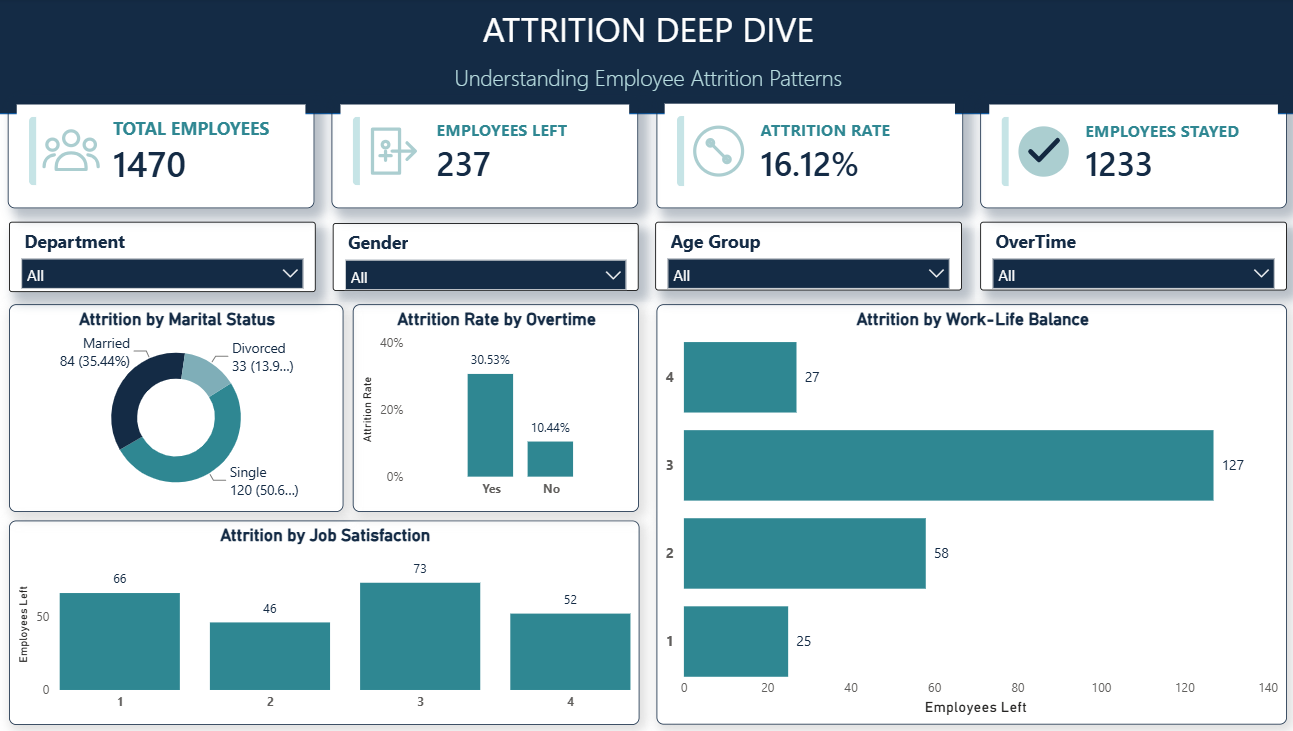

This screenshot's page, from the dashboard's own definition file:
{"tool":"powerbi","page":{"name":"Attrition Deep Dive","canvas":[1280,720],"ordinal":1},"visuals":[{"type":"donutChart","title":"Attrition by Marital Status","fields":{"Category":["hr_analytics hr_employee_attrition.MaritalStatus"],"Y":["hr_analytics hr_employee_attrition.Employees Left"]},"box":[14.3,300,327.1,202.9],"z":0},{"type":"columnChart","title":"Attrition by Job Satisfaction","fields":{"Category":["hr_analytics hr_employee_attrition.JobSatisfaction"],"Y":["hr_analytics hr_employee_attrition.Employees Left"]},"box":[14.3,511.4,617.1,200],"z":1000},{"type":"clusteredBarChart","title":"Attrition by Work-Life Balance","fields":{"Category":["hr_analytics hr_employee_attrition.WorkLifeBalance"],"Y":["hr_analytics hr_employee_attrition.Employees Left"]},"box":[648.6,300,617.1,411.4],"z":2000},{"type":"columnChart","title":"Attrition Rate by Overtime","fields":{"Category":["hr_analytics hr_employee_attrition.OverTime"],"Y":["hr_analytics hr_employee_attrition.Attrition Rate"]},"box":[351.4,300,280,202.9],"z":3000},{"type":"shape","box":[0,0,1280,113.8],"z":4000},{"type":"slicer","fields":{"Values":["hr_analytics hr_employee_attrition.Department"]},"box":[14.3,218.6,300,68.6],"z":5000},{"type":"slicer","fields":{"Values":["hr_analytics hr_employee_attrition.Gender"]},"box":[331.2,219.6,299.3,66.7],"z":6000},{"type":"slicer","fields":{"Values":["hr_analytics hr_employee_attrition.Age Group"]},"box":[647.4,219.3,300,67.3],"z":7000},{"type":"slicer","fields":{"Values":["hr_analytics hr_employee_attrition.OverTime"]},"box":[964.3,219.4,300,67.1],"z":8000},{"type":"cardVisual","fields":{"Data":["hr_analytics hr_employee_attrition.Attrition Rate"]},"box":[647.9,95.3,300,110],"z":9000},{"type":"cardVisual","fields":{"Data":["hr_analytics hr_employee_attrition.Employees Left"]},"box":[330.8,95.3,300,110],"z":10000},{"type":"cardVisual","fields":{"Data":["hr_analytics hr_employee_attrition.Employees Stayed"]},"box":[965,95.3,300,110],"z":11000},{"type":"cardVisual","fields":{"Data":["Count(hr_analytics hr_employee_attrition.EmployeeNumber)"]},"box":[13.6,95.3,300,110],"z":12000},{"type":"textbox","title":"ATTRITION DEEP DIVE","box":[0,7.1,1280,95.7],"z":13000}]}

Visuals, with their boxes in screenshot pixels (x1, y1, x2, y2), scaled from the page's 1280x720 canvas onto the 1293x731 screenshot:
"Attrition by Marital Status" donutChart: box=[14, 305, 345, 511]
"Attrition by Job Satisfaction" columnChart: box=[14, 519, 638, 722]
"Attrition by Work-Life Balance" clusteredBarChart: box=[655, 305, 1279, 722]
"Attrition Rate by Overtime" columnChart: box=[355, 305, 638, 511]
shape: box=[0, 0, 1292, 116]
slicer - hr_analytics hr_employee_attrition.Department: box=[14, 222, 317, 292]
slicer - hr_analytics hr_employee_attrition.Gender: box=[335, 223, 637, 291]
slicer - hr_analytics hr_employee_attrition.Age Group: box=[654, 223, 957, 291]
slicer - hr_analytics hr_employee_attrition.OverTime: box=[974, 223, 1277, 291]
cardVisual - hr_analytics hr_employee_attrition.Attrition Rate: box=[654, 97, 958, 208]
cardVisual - hr_analytics hr_employee_attrition.Employees Left: box=[334, 97, 637, 208]
cardVisual - hr_analytics hr_employee_attrition.Employees Stayed: box=[975, 97, 1278, 208]
cardVisual - Count(hr_analytics hr_employee_attrition.EmployeeNumber): box=[14, 97, 317, 208]
"ATTRITION DEEP DIVE" textbox: box=[0, 7, 1292, 104]
